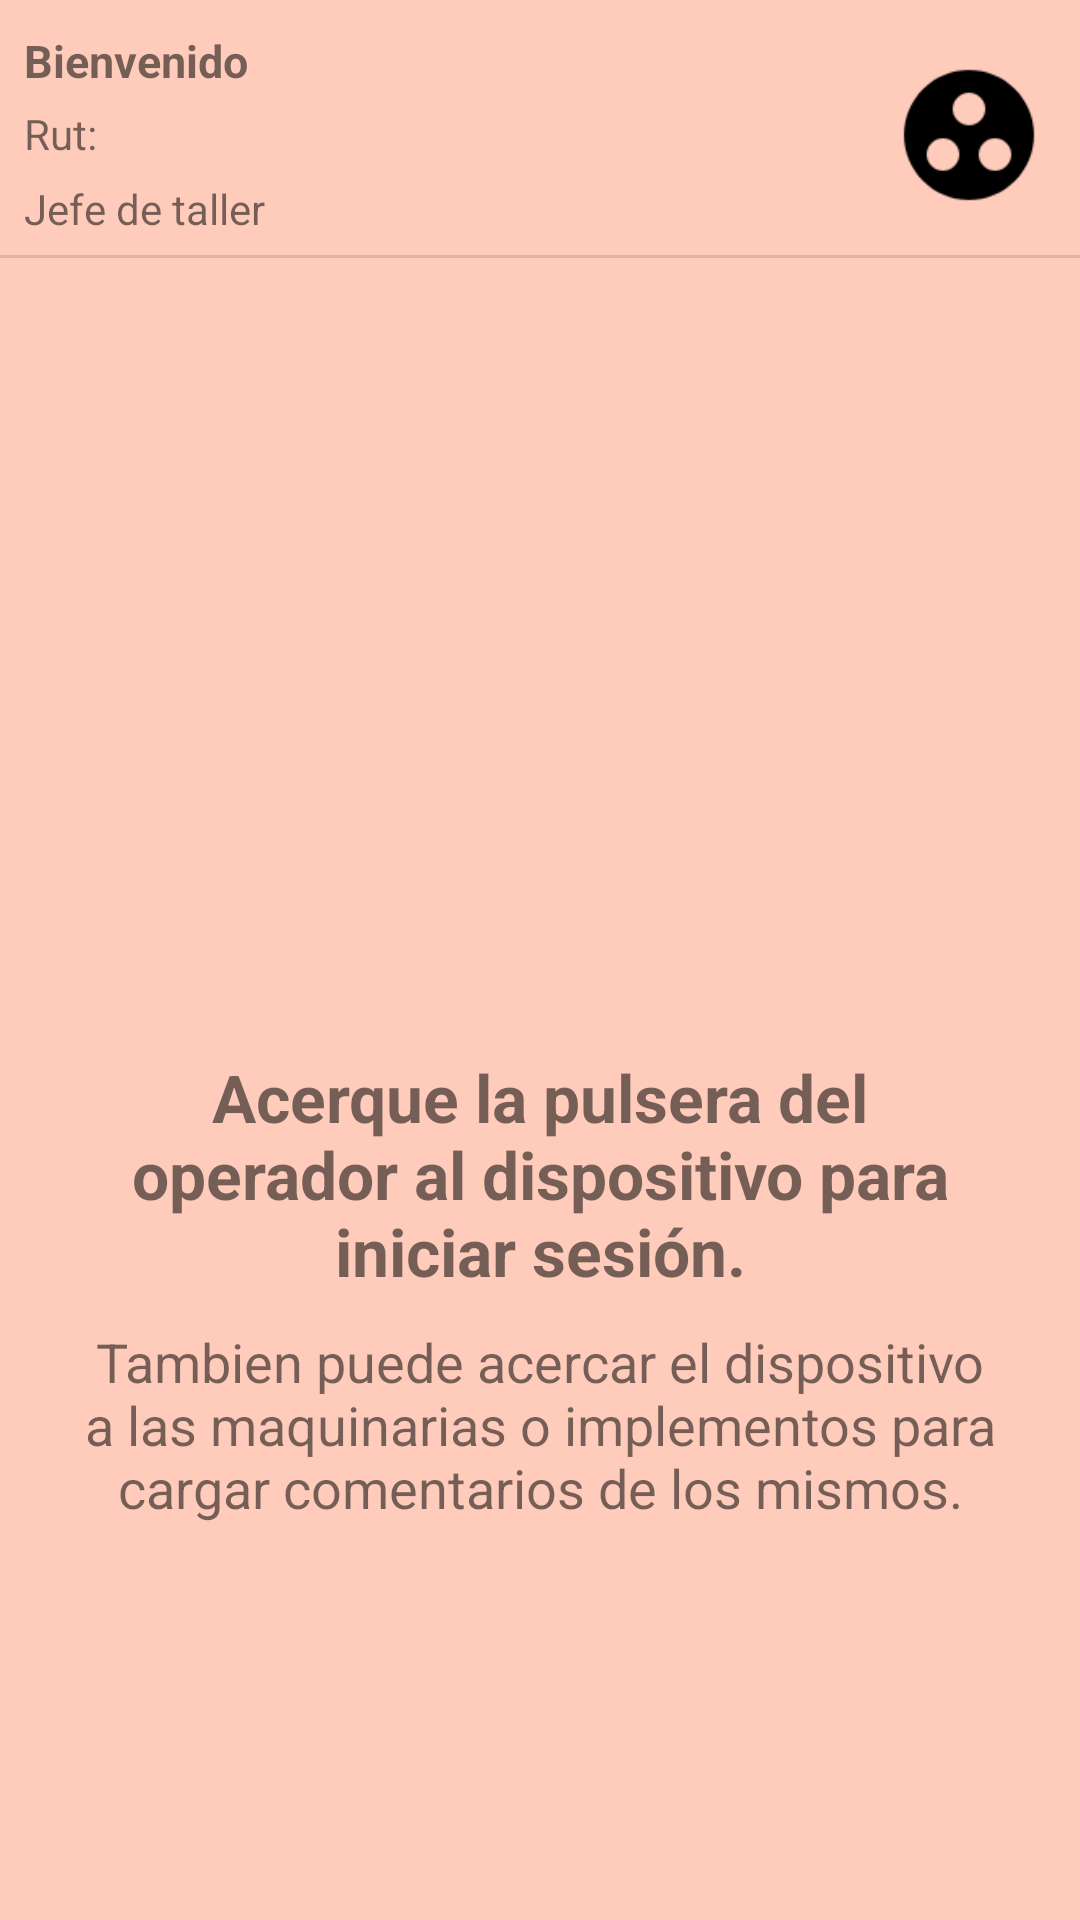

Point at icon controls on the screen. Image size 1080px x 1920px, points as point (x, y).
group work: point (969, 135)
